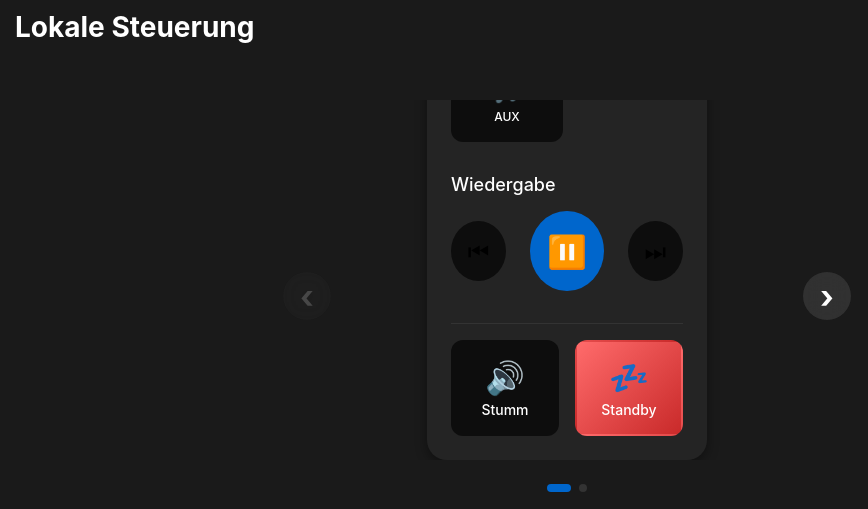
Test case: LocalControl - Edge Cases › should disable volume slider when muted
(page scrolled)
Step 1. Click the button "🔊 Stumm" → (505, 388), box [451, 340, 559, 436]
(page scrolled)
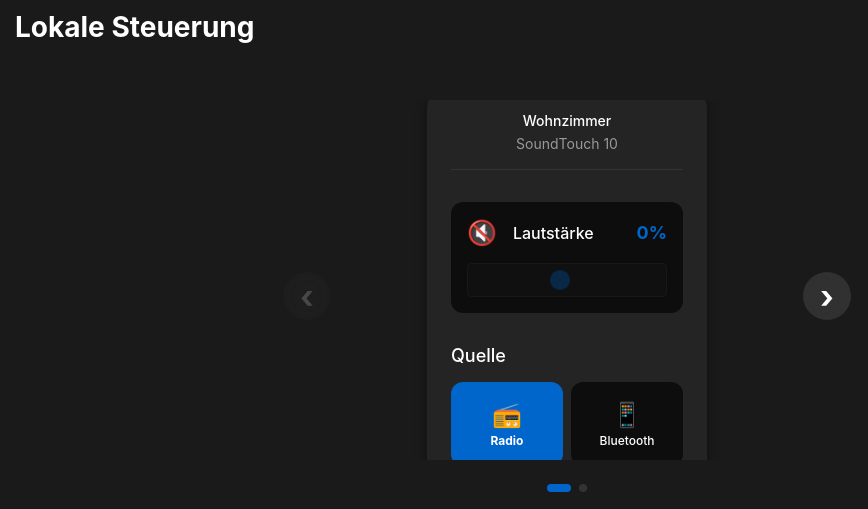
Result: the slider is disabled at [467, 263, 667, 297]
